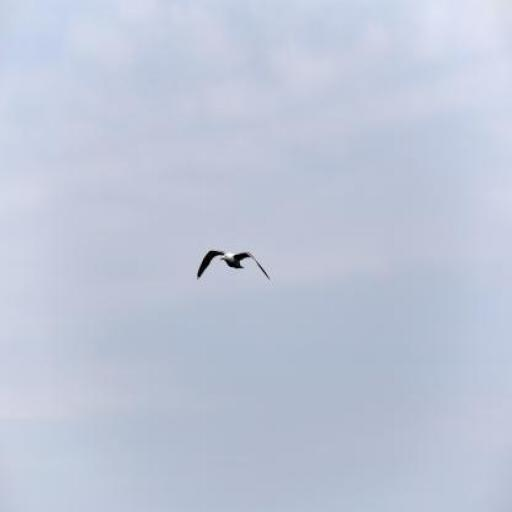bird: (197, 249, 272, 284)
